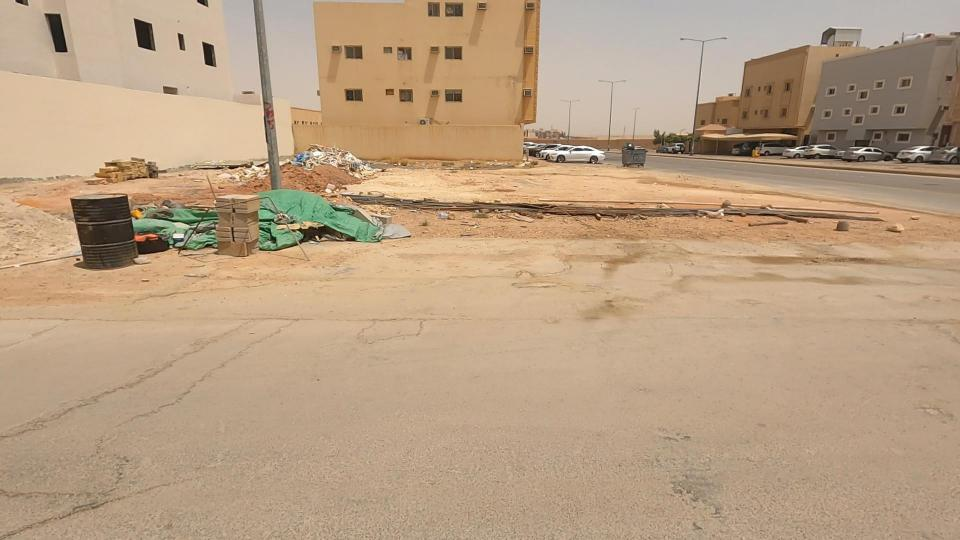GARBAGE: (172, 167, 499, 279), (65, 160, 278, 279), (239, 100, 424, 209), (383, 169, 590, 255), (651, 183, 761, 243), (209, 138, 288, 198)
